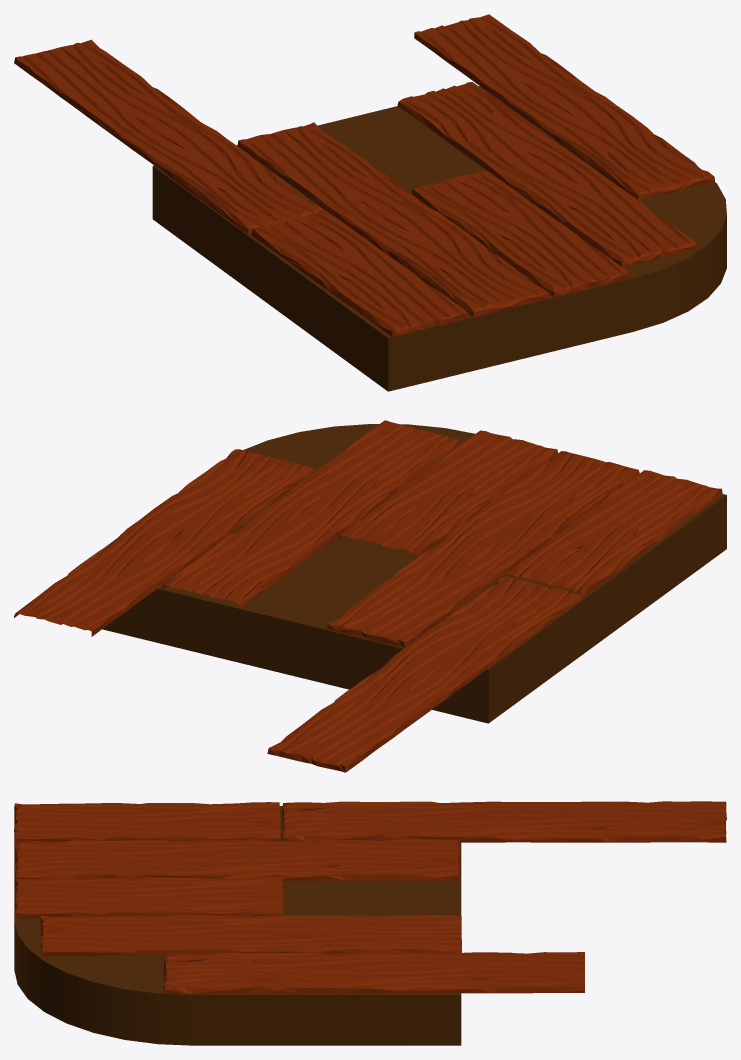
The model's file is FloorCornerL.glb.
3 views of the same model, one above another, from view 1: azimuth 30°, elevation 25°; view 2: azimuth 150°, elevation 25°; view 3: azimuth 270°, elevation 25° (orthographic). The views are drawn at different scales.
Parts seen in each view (by area): view 1: Cube.001, Plane.004, Plane.005, Plane.002, Plane.003, Plane.001, Plane.009; view 2: Cube.001, Plane.005, Plane.004, Plane.002, Plane.003, Plane.001, Plane.009; view 3: Cube.001, Plane.005, Plane.004, Plane.002, Plane.003, Plane.009, Plane.001.
Part boxes in pixels (box(x1,y1,x2,y2)): Cube.001: box(152, 80, 726, 391); Plane.004: box(237, 122, 550, 316); Plane.005: box(14, 39, 324, 234); Plane.002: box(414, 14, 714, 199); Plane.003: box(397, 82, 698, 267); Plane.001: box(251, 211, 468, 336); Plane.009: box(411, 170, 630, 297); Cube.001: box(102, 424, 726, 723); Plane.005: box(267, 576, 582, 772); Plane.004: box(327, 451, 639, 647); Plane.002: box(14, 449, 314, 636); Plane.003: box(162, 420, 462, 608); Plane.001: box(504, 470, 722, 597); Plane.009: box(339, 430, 558, 557); Cube.001: box(14, 806, 461, 1045); Plane.005: box(282, 801, 726, 842); Plane.004: box(14, 839, 459, 880); Plane.002: box(163, 952, 584, 993); Plane.003: box(40, 915, 461, 956); Plane.009: box(15, 877, 283, 918); Plane.001: box(14, 802, 280, 843).
Size of the model in its own units: 2 by 0.2823 by 3.19.
